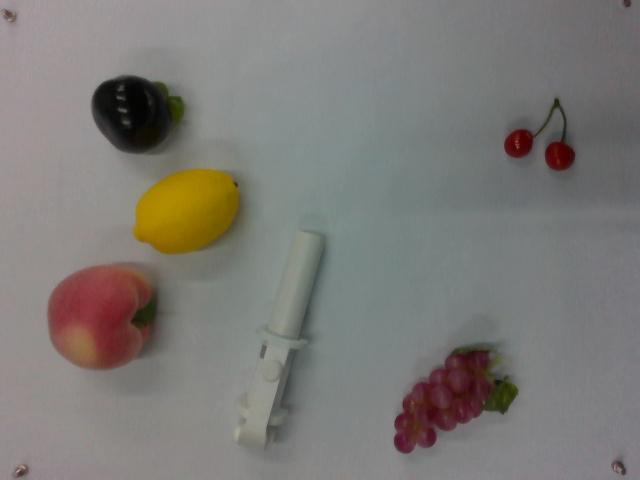cherry: (502, 97, 581, 174)
grape: (390, 338, 518, 455)
lemon: (131, 167, 241, 256)
mangosteen: (90, 74, 186, 158)
peach: (48, 261, 159, 371)
selfiestick: (233, 228, 327, 453)
